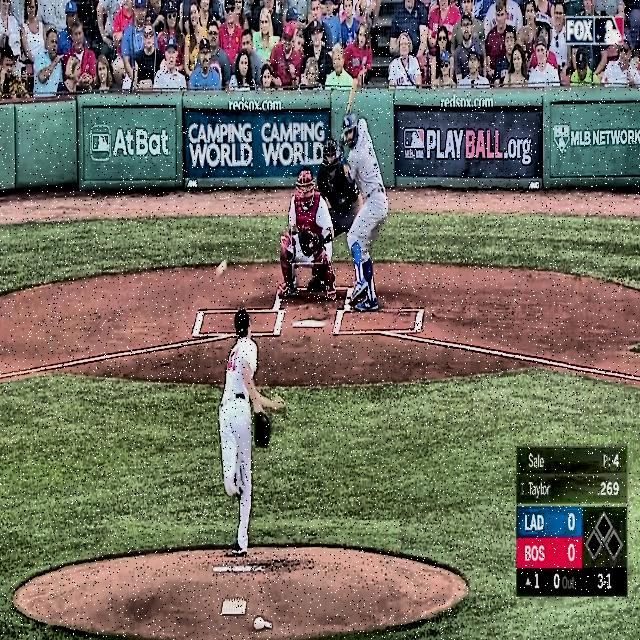baseball: (216, 260, 226, 276)
